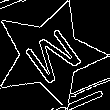M_SE: (15, 21, 84, 89)
